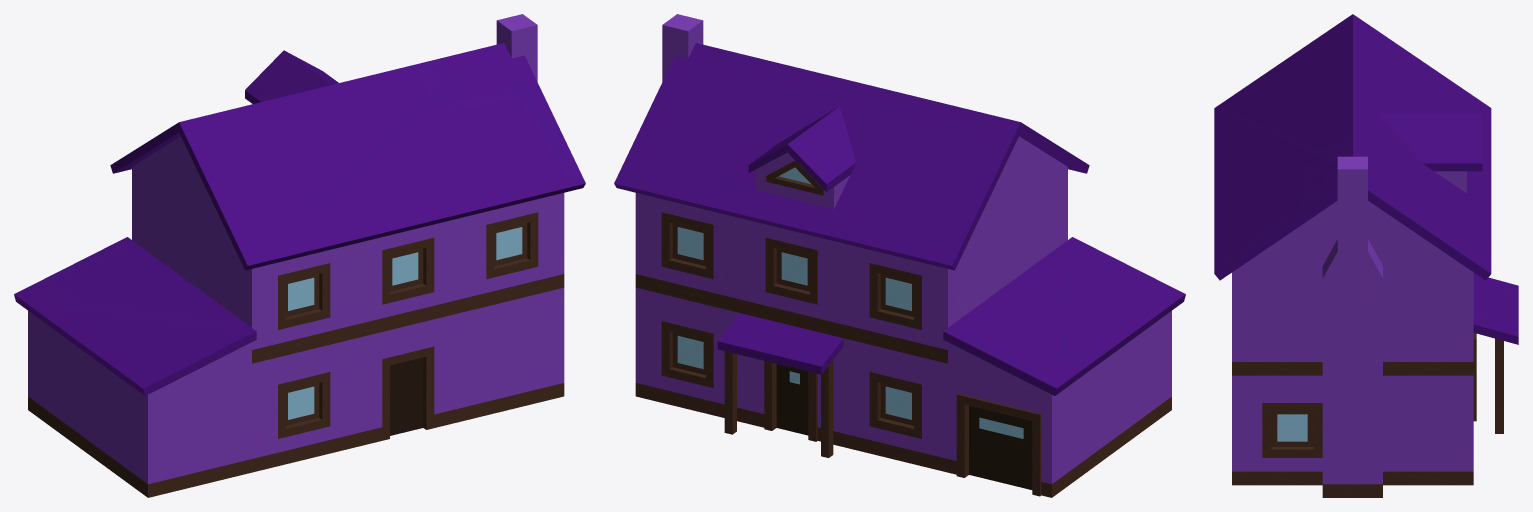
Rendered from house_type08.fbx.
The picture shows the model from 3 angles, left to right: view 1: azimuth 30°, elevation 25°; view 2: azimuth 150°, elevation 25°; view 3: azimuth 270°, elevation 25°; orthographic projection.
Visible parts, largest first — view 1: house_type08; view 2: house_type08; view 3: house_type08.
Part boxes in pixels (x1,y1,x2,y2): house_type08: (14, 14, 585, 497); house_type08: (614, 14, 1185, 497); house_type08: (1214, 14, 1518, 497).
Bounding box in the file's own units: 17.36 × 12 × 10.06.
1 material, 1 textured.
